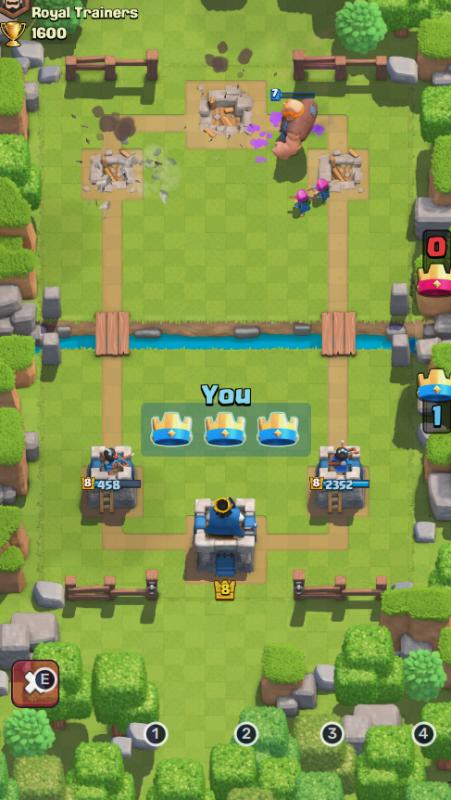archere: (311, 176, 343, 213), (285, 181, 311, 214)
geant: (269, 86, 316, 159)
